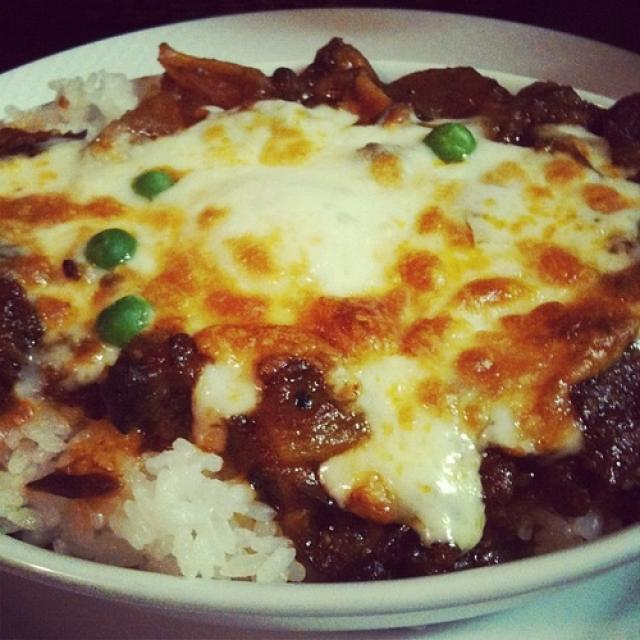米饭主食: (8, 28, 620, 599)
